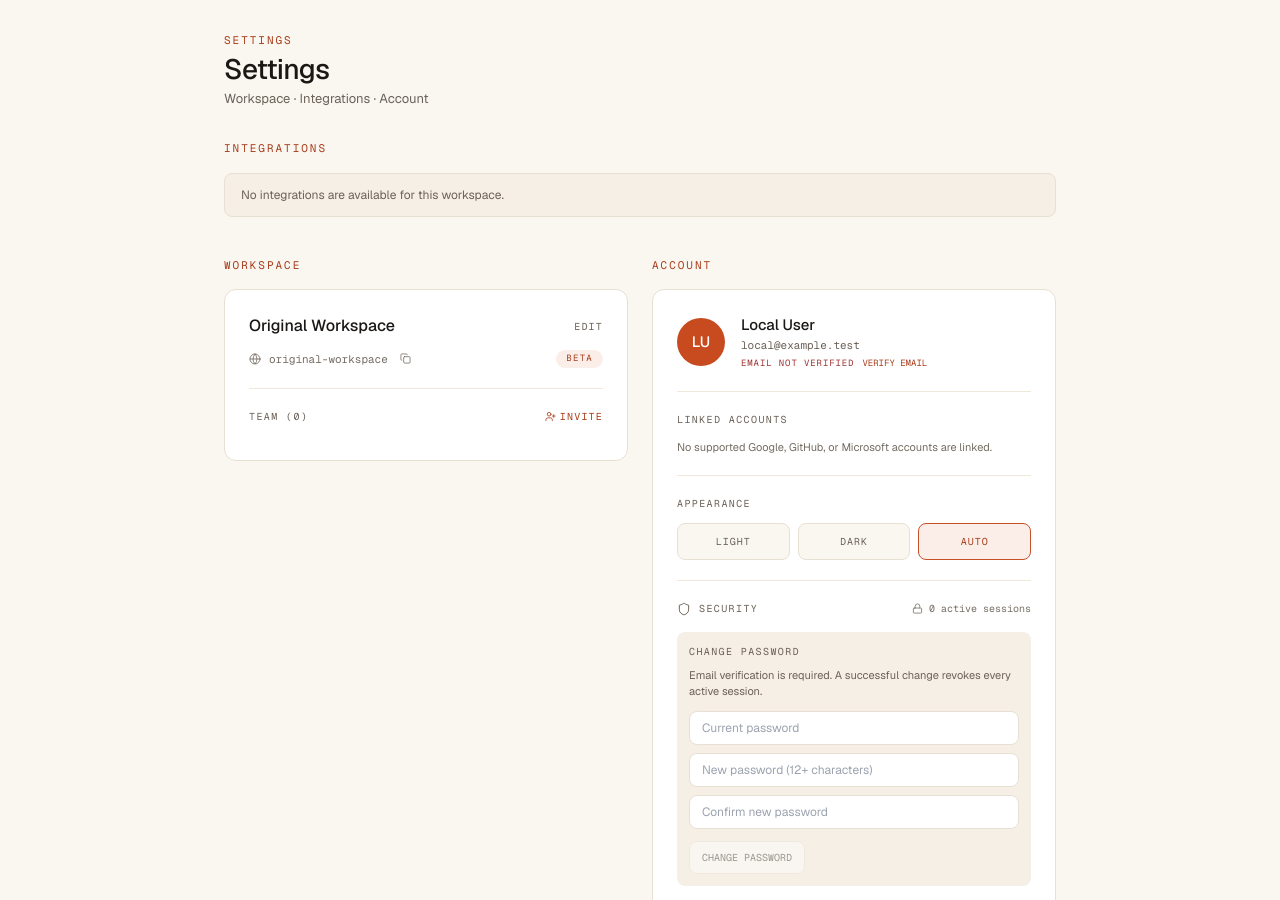
Scenario: Settings workspace persistence › preserves exact invite roles and displays durable account-completion state
The image size is (1280, 900).
Check: the text "Original Workspace" is shown, box [249,315,395,336]
Click the button "Invite".
click(574, 416)  # box [545,408,603,424]
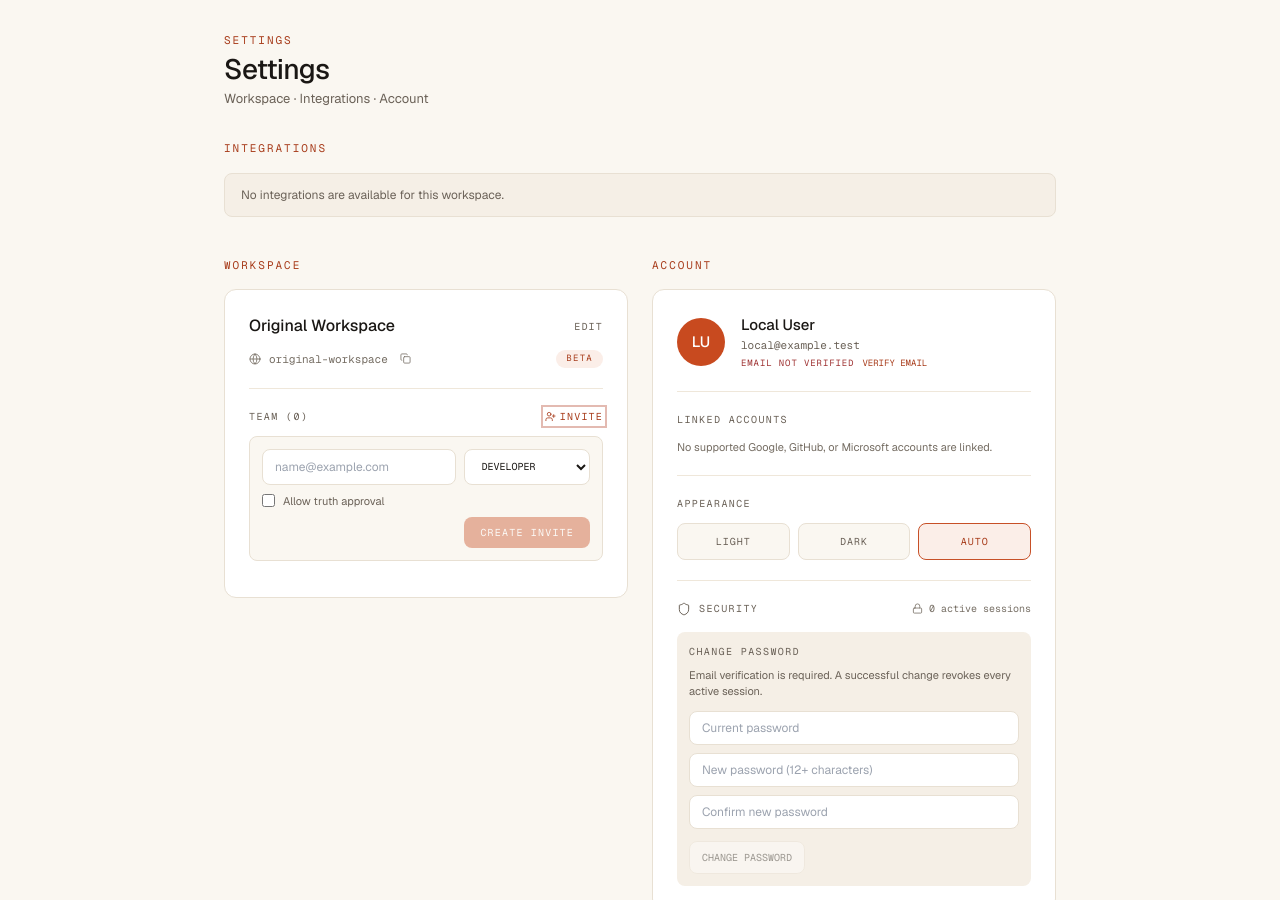
Type "client@example.test" into the field named "Invite email".
click(359, 466); type("client@example.test")  # box [262,448,456,484]
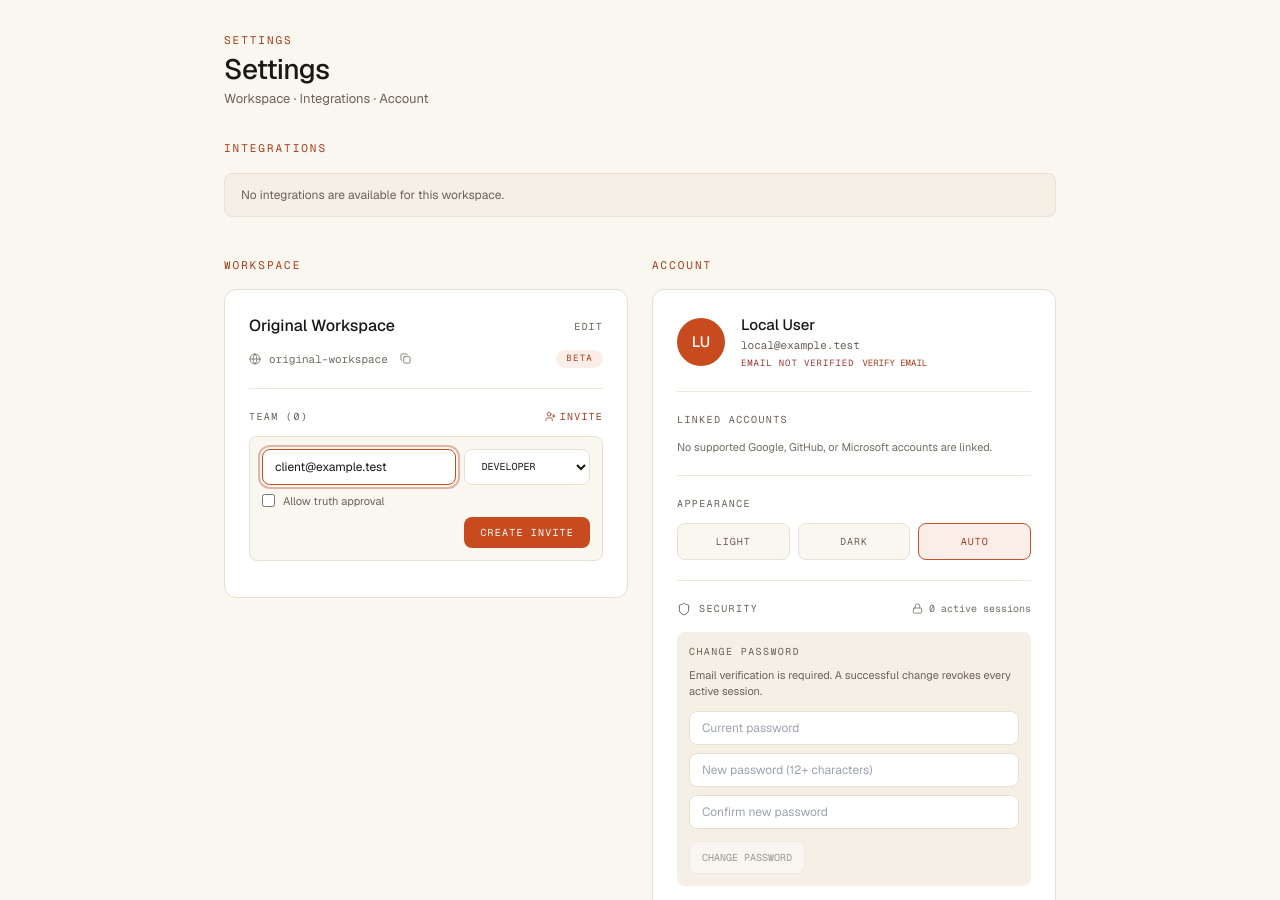
Select "Client" in the dropdown named "Invite role" at (527, 466), box [464,448,590,484]
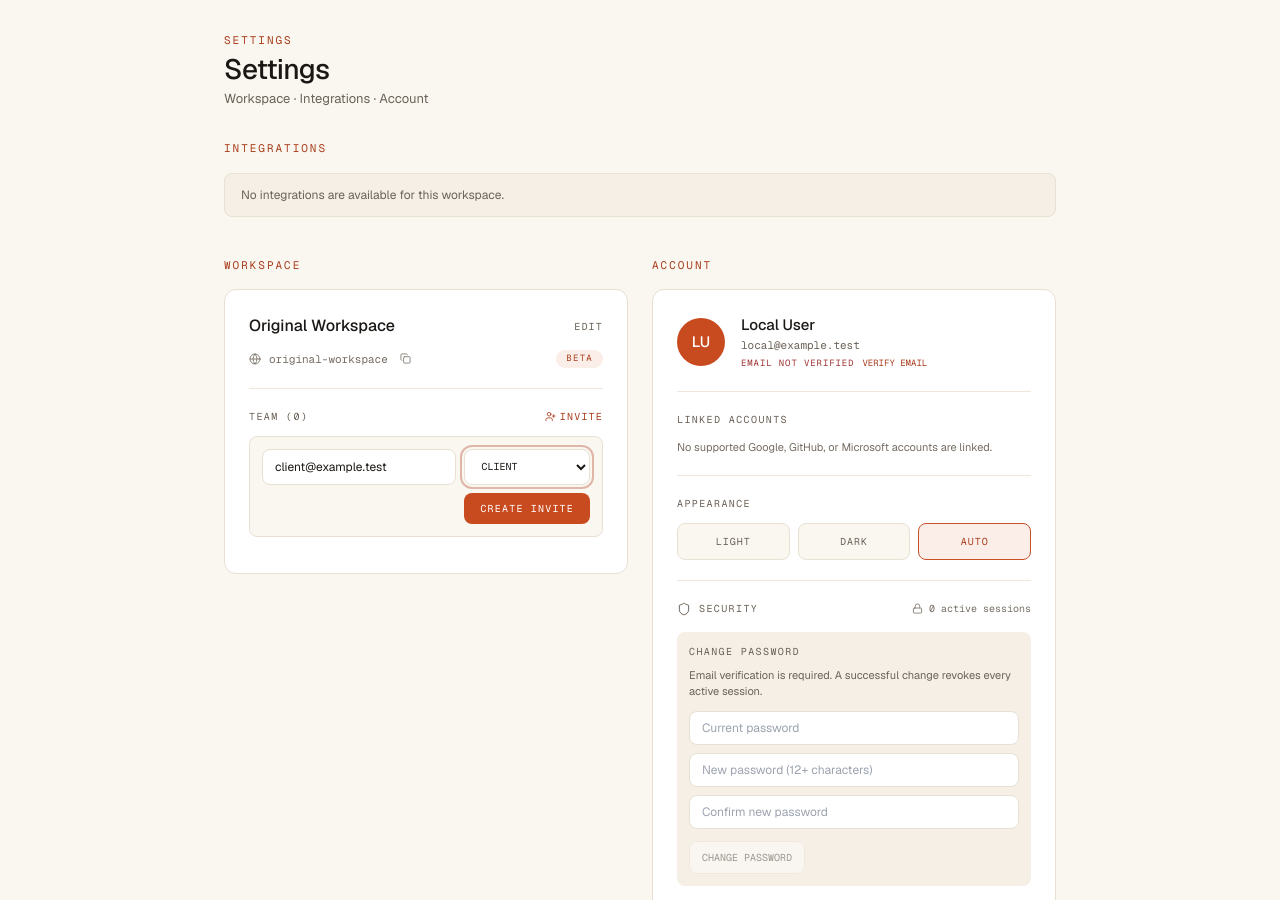
Click the button "Create invite".
click(527, 508)  # box [464,492,590,524]
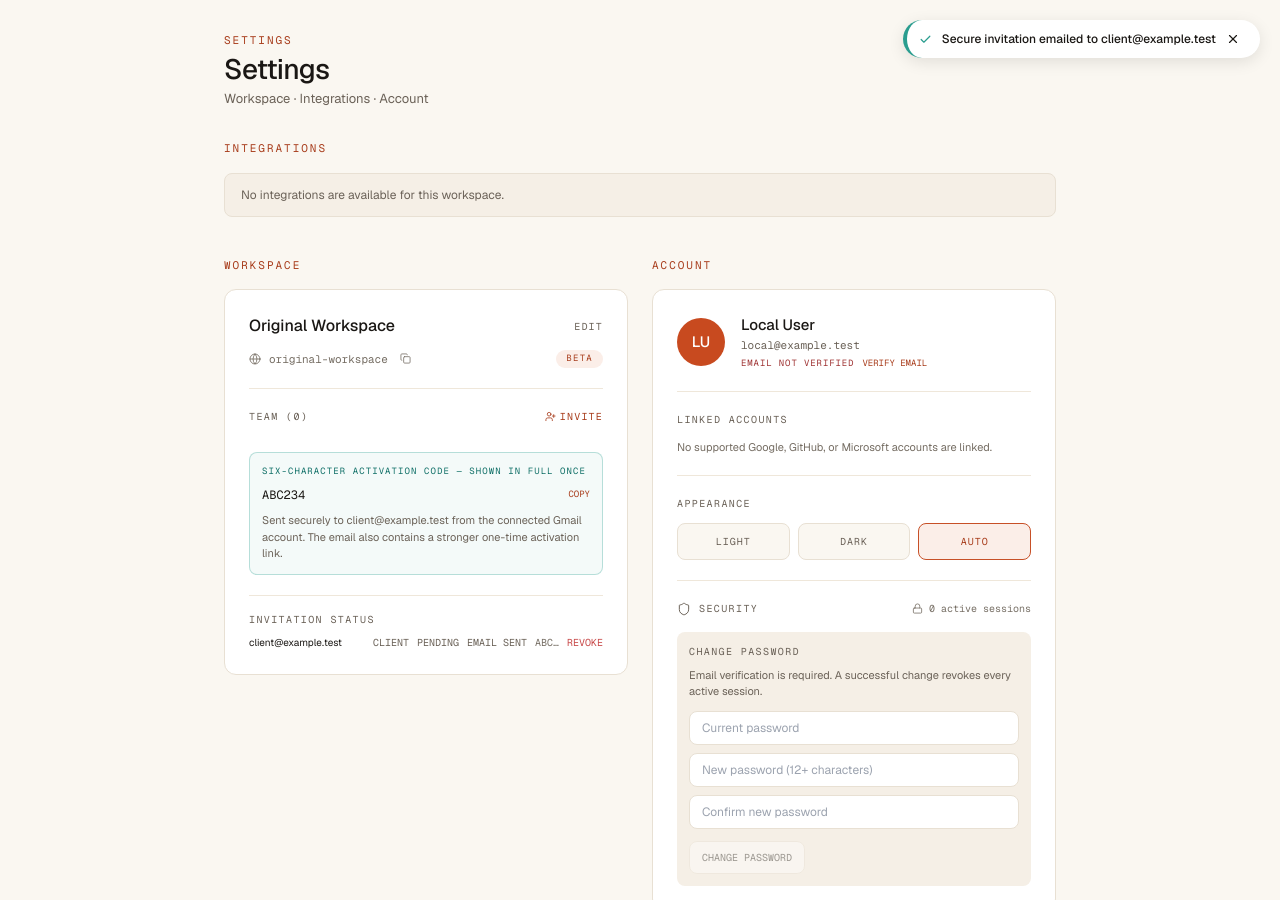
Check: the text "ABC234" is shown, box [262,487,305,503]
Check: the text "Six-character activation code — shown in full once" is shown, box [262,464,590,478]
Check: the text "client@example.test" is shown, box [249,636,342,648]
Click the button "Revoke".
click(585, 642)  # box [567,634,603,650]
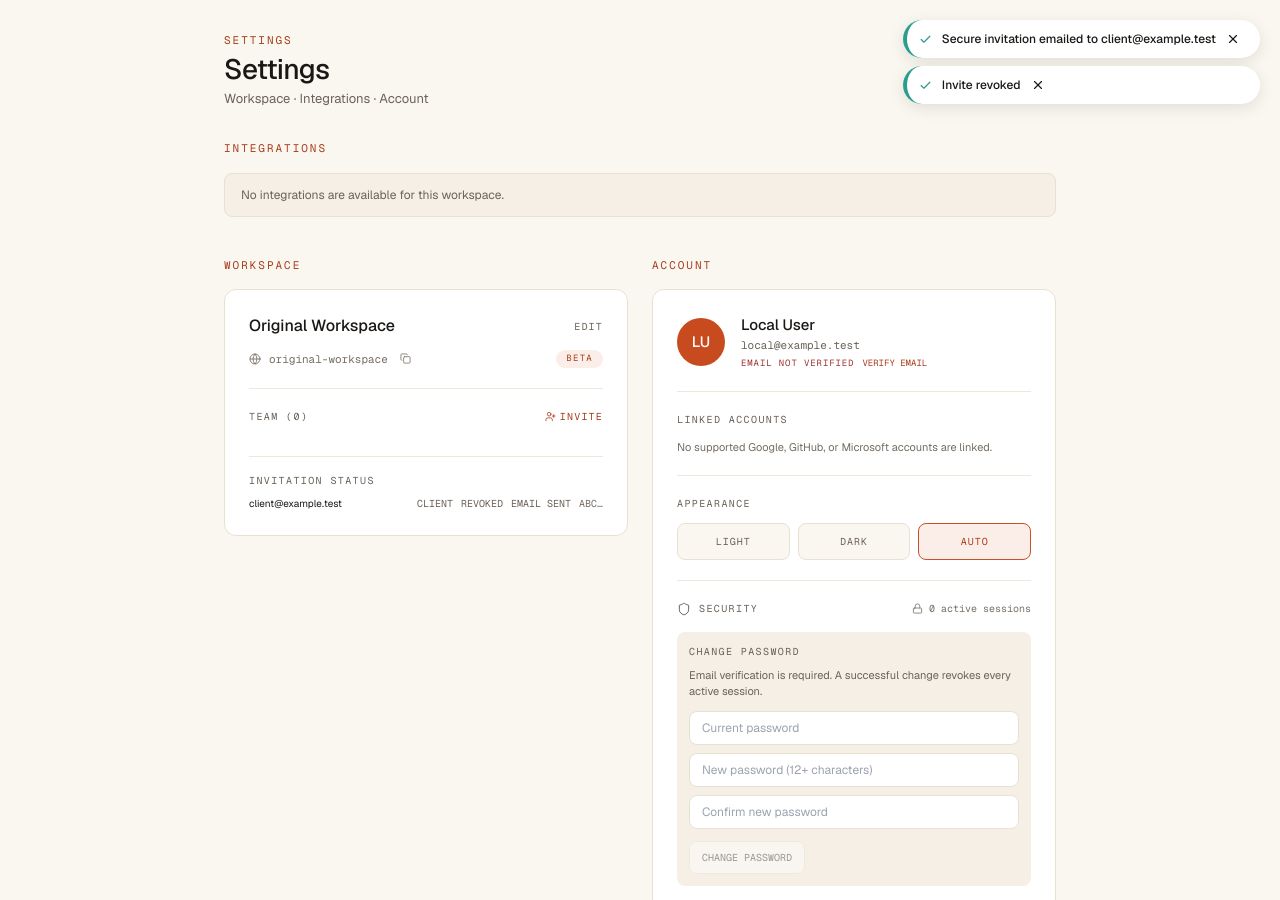
Check: the text "ABC234" is gone
Check: the text "revoked" is shown, box [461,496,503,510]
